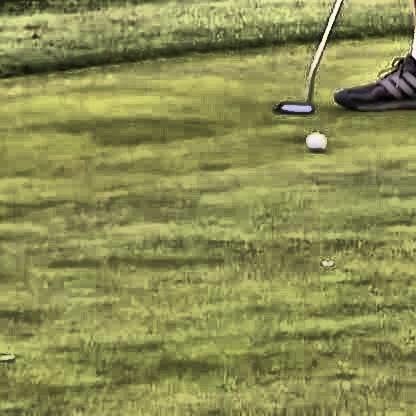golfball: (304, 127, 323, 149)
